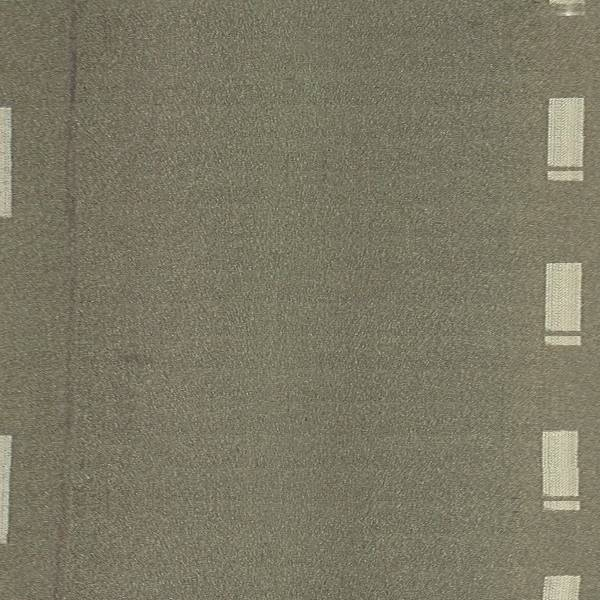road_damage: (48, 52, 82, 578)
